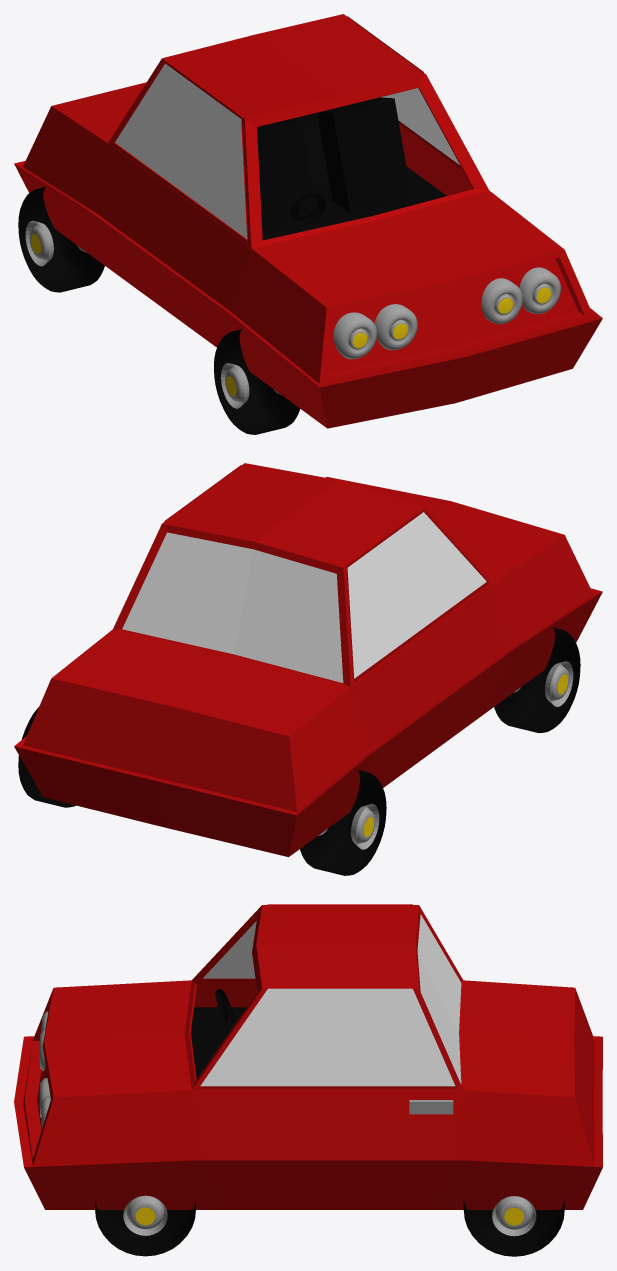
The model's file is 自動車.fbx.
3 views of the same model, one above another, from view 1: azimuth 30°, elevation 25°; view 2: azimuth 150°, elevation 25°; view 3: azimuth 270°, elevation 25° (orthographic). The views are drawn at different scales.
Visible parts, largest first — view 1: 円柱.003; view 2: 円柱.003; view 3: 円柱.003.
Part boxes in pixels (x1,y1,x2,y2): 円柱.003: (14,14,602,434); 円柱.003: (14,463,602,875); 円柱.003: (14,904,602,1256).
Size of the model in its own units: 68.84 by 50.38 by 111.
